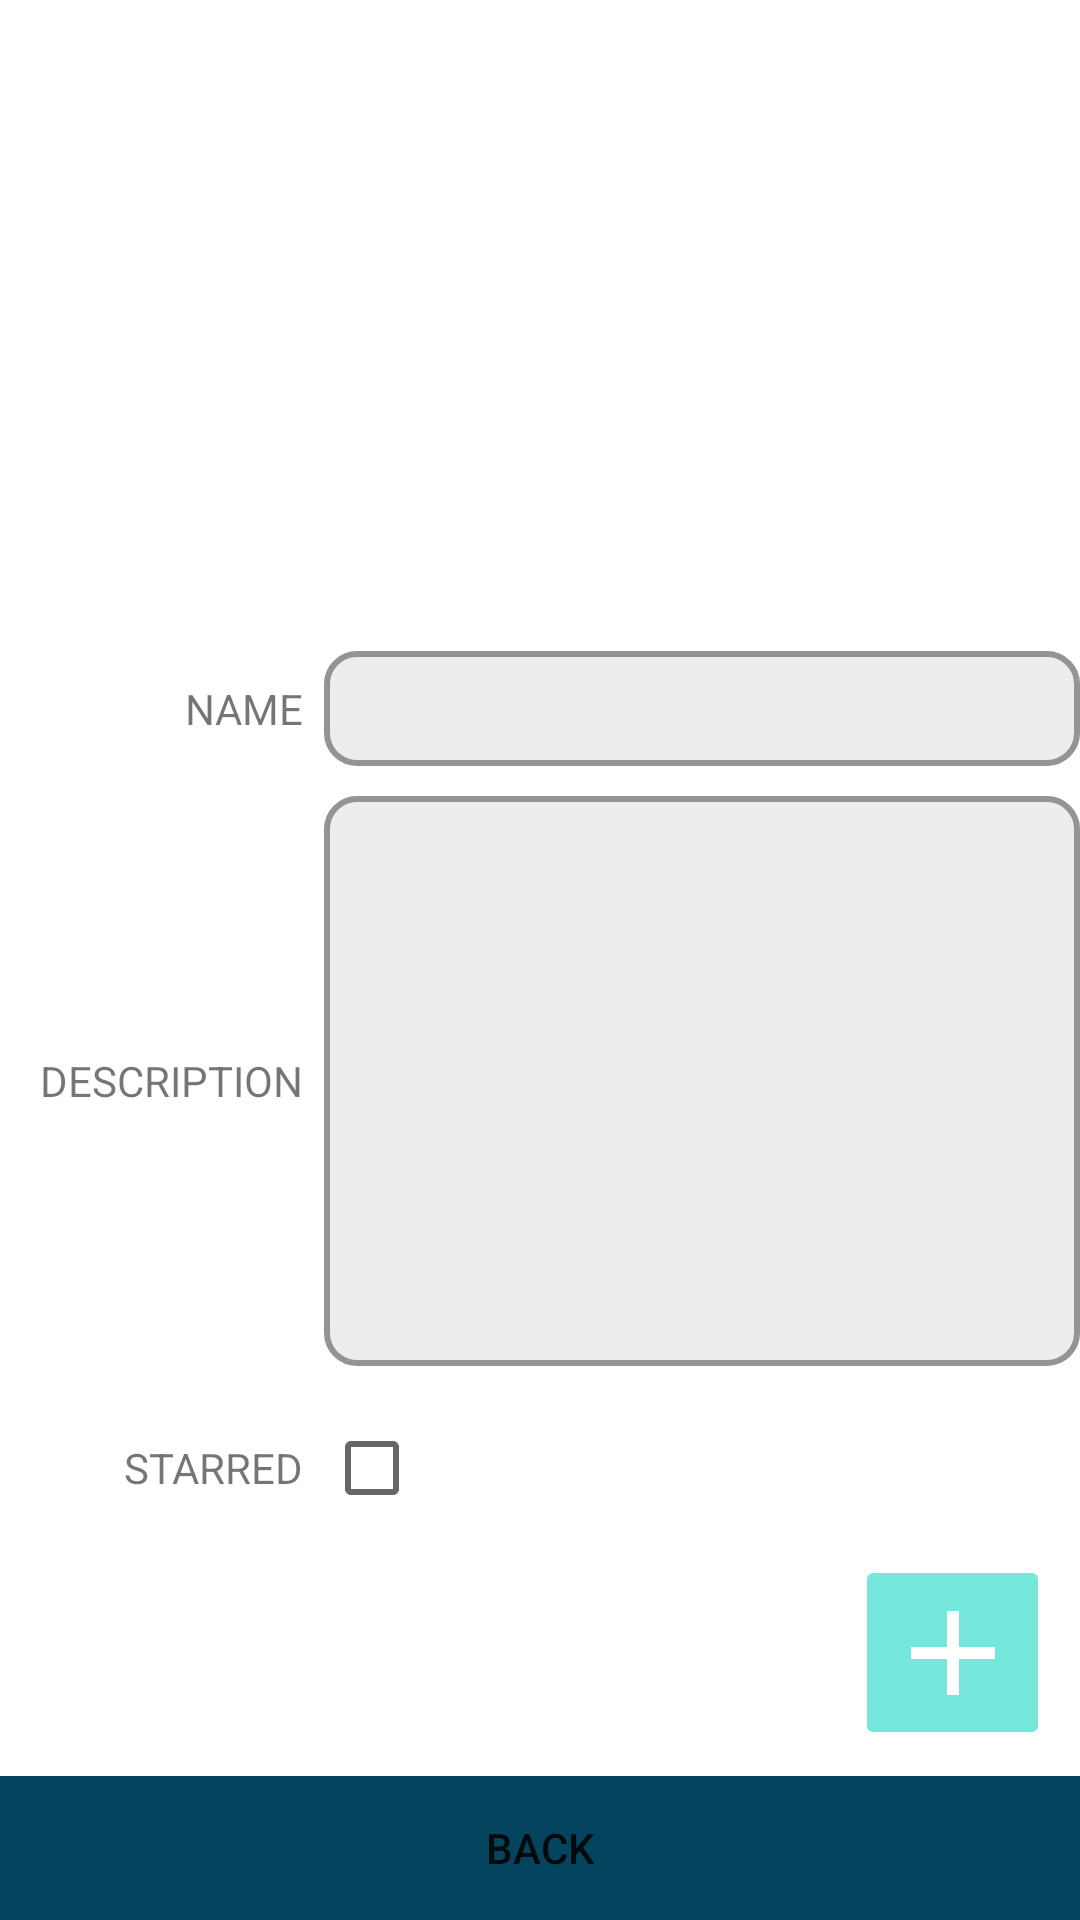

Screen size 1080x1920. Icon name, then its box in pixels as region(x1, y1, x2, y2):
add: region(867, 1573, 1038, 1732)
